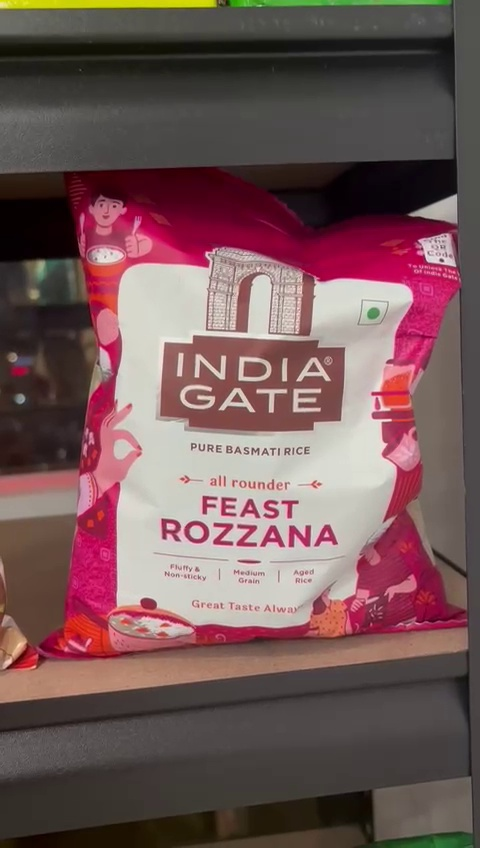India Gate Feast Rozzana: (72, 178, 455, 636)
